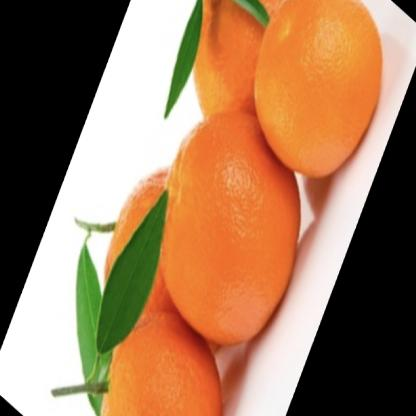fresh: (93, 1, 385, 416)
